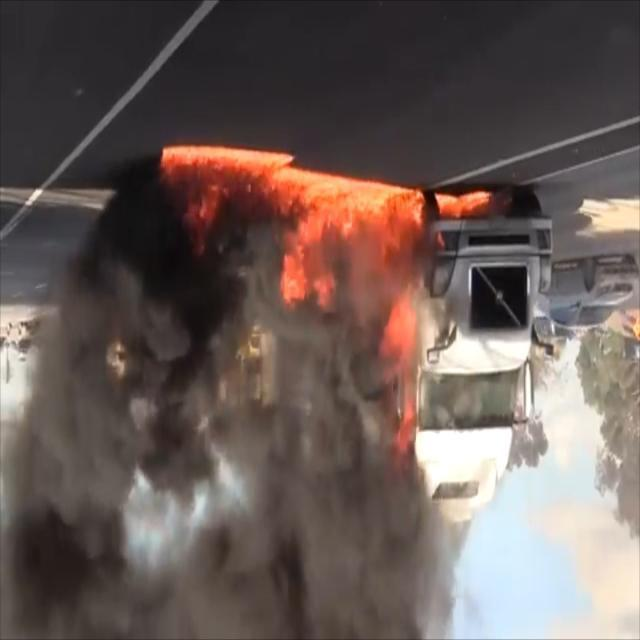fire: (137, 150, 487, 358)
